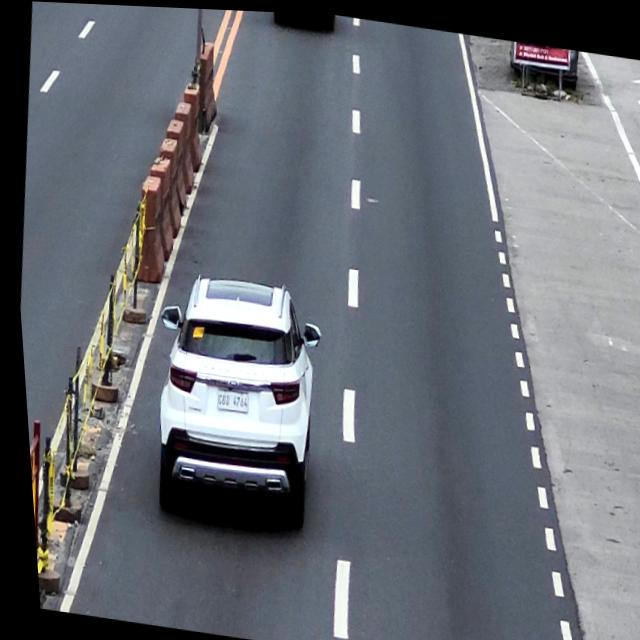Car: (133, 265, 331, 535)
License-Plate: (210, 387, 244, 412)
